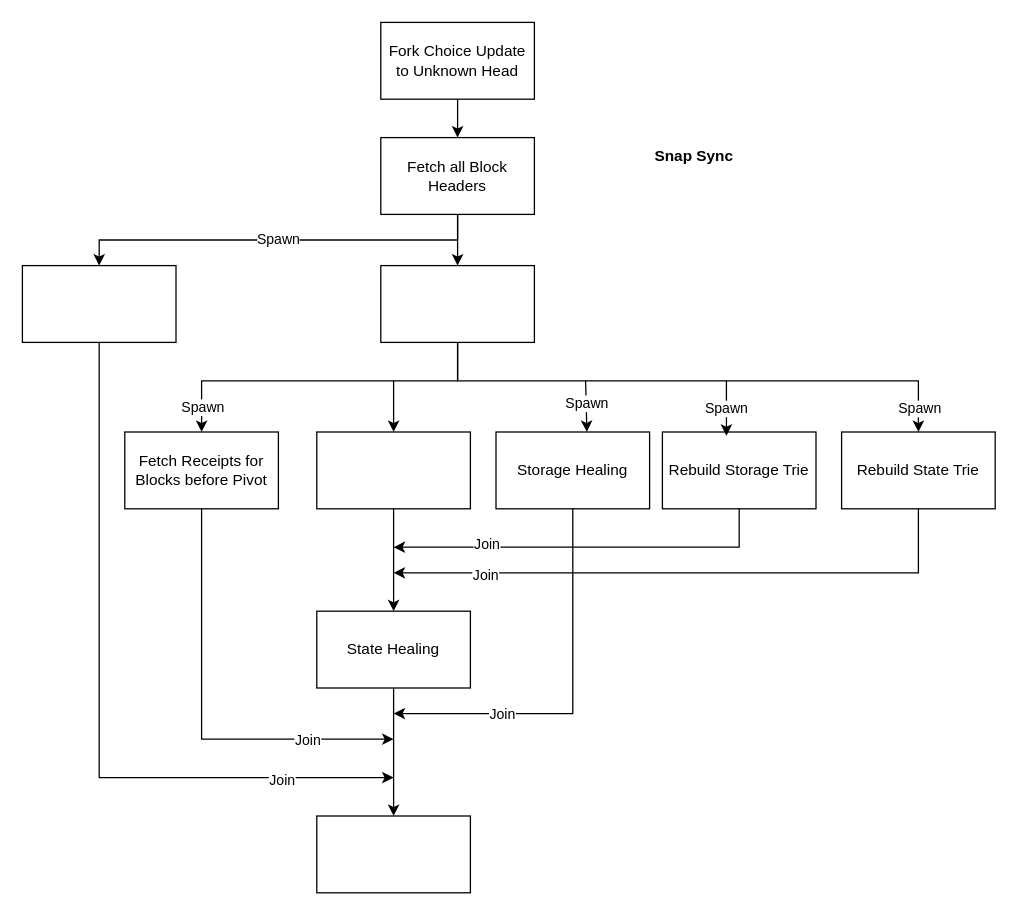
The diagram is 1018 pixels wide and 915 high, and some of its shapes have lost their labels. The shapes that lost their labels are listed below. From the top down, each one's box as (x1, y1, x2, y2) in pixels, then its label:
(21, 264, 176, 342): Fetch all Block Bodies
(380, 264, 534, 342): Select Pivot Block
(316, 431, 470, 509): State Sync
(316, 815, 470, 893): Execute Blocks After Pivot
